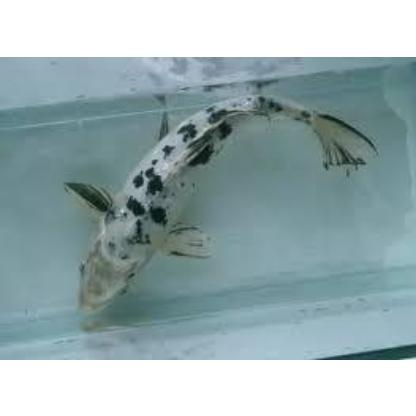ikan-mas: (74, 90, 342, 310)
